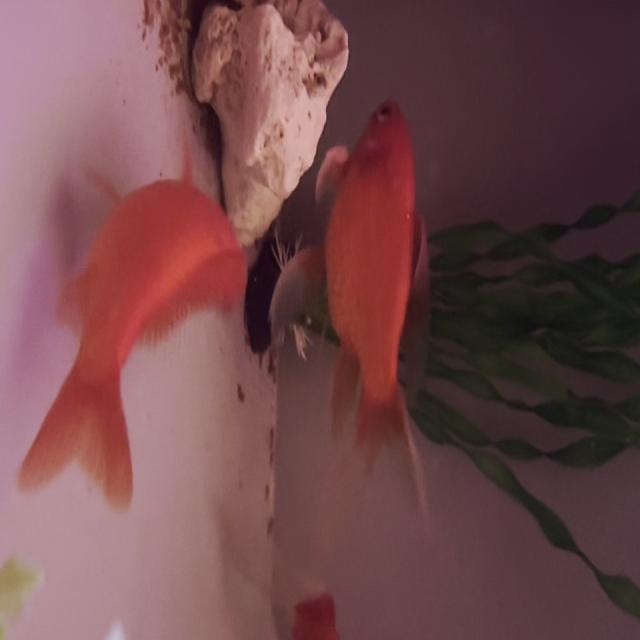fish: (19, 144, 251, 509), (280, 99, 429, 518)
